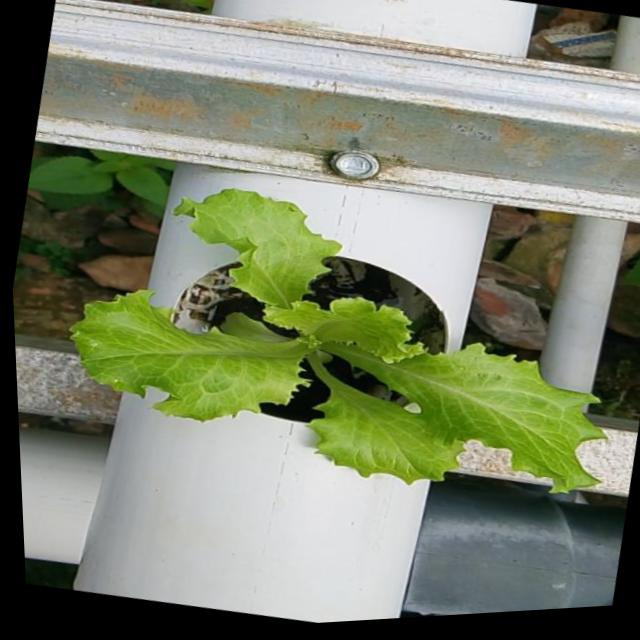Baby: (69, 189, 602, 491)
